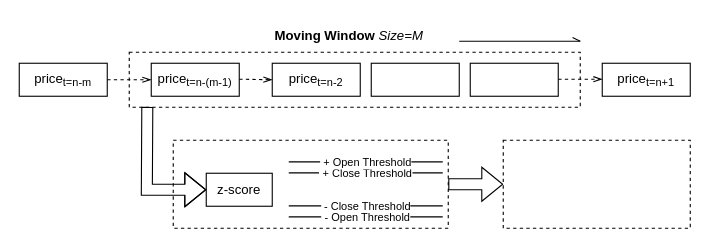
Image size: 710x248. Some labels were removed from this diagram. Here are the shapes that lost their labels. From the top down, the box of each, then its label:
(370, 62, 459, 96): price t=n-1
(469, 62, 558, 96): price t=n
(502, 139, 690, 228): Trading Signals Long leg 0 Short leg 1 Short leg 0 Long leg 1 Close Positions
